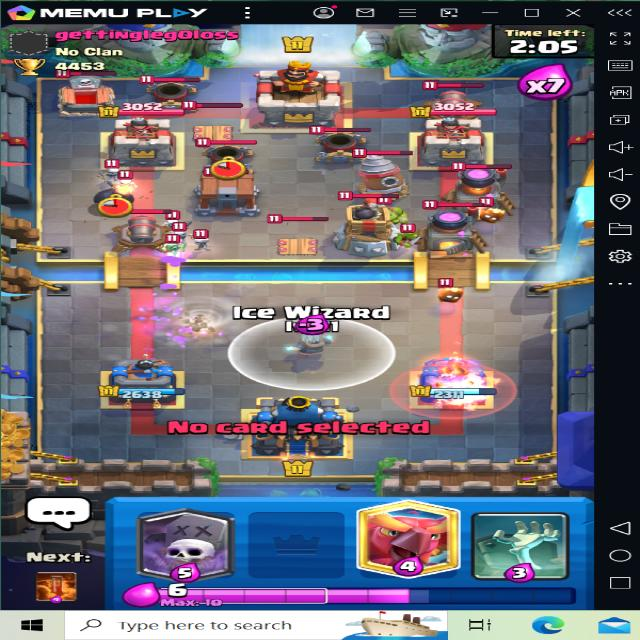bomb-tower: (335, 187, 412, 255)
brawler: (378, 195, 416, 227)
cannon: (418, 78, 490, 122), (107, 207, 168, 251)
fire-spirit: (433, 276, 475, 313), (469, 204, 506, 228)
furnace: (443, 158, 525, 225), (416, 196, 493, 258)
goblin: (394, 220, 416, 248)
goblin-cage: (194, 166, 266, 212)
goblin-drill: (341, 147, 415, 200)
mortar: (140, 65, 207, 111), (307, 123, 370, 166), (194, 138, 257, 168)
skeleton: (180, 223, 212, 255), (116, 166, 146, 193), (156, 209, 187, 231), (160, 234, 189, 257), (164, 222, 193, 242), (94, 161, 127, 177)
tesla-closed: (174, 97, 247, 145), (264, 212, 330, 256)
tombstone: (48, 60, 128, 116)
